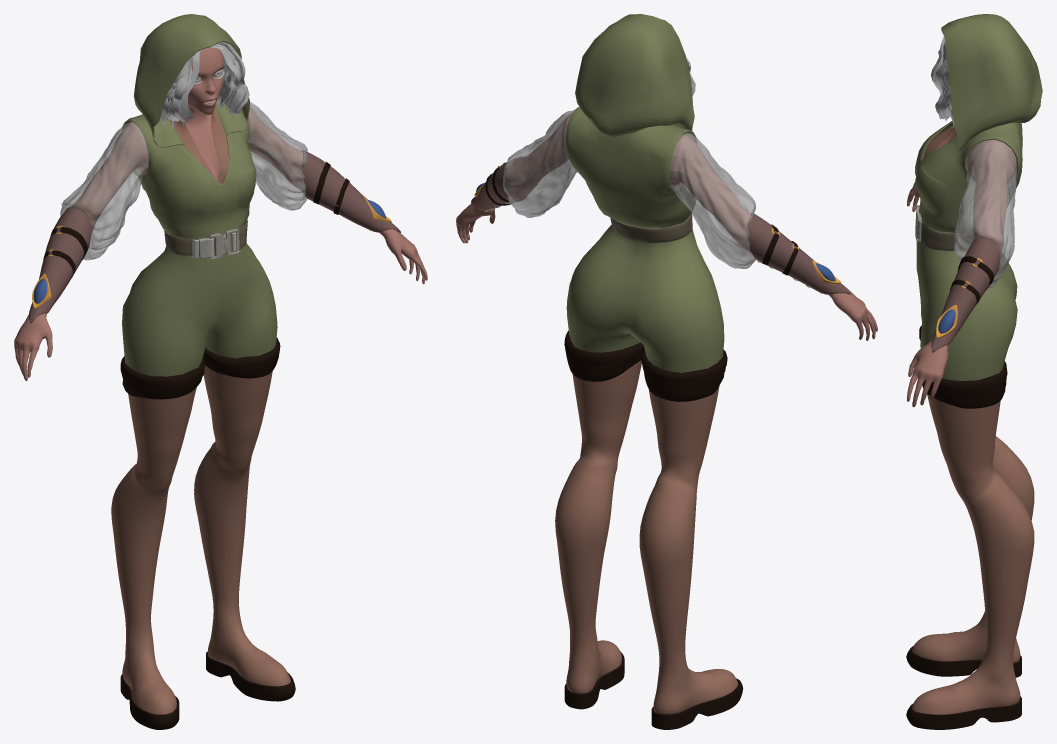
Rendered from siera_UV_05.fbx.
The picture shows the model from 3 angles, left to right: view 1: azimuth 30°, elevation 25°; view 2: azimuth 150°, elevation 25°; view 3: azimuth 270°, elevation 25°; orthographic projection. The views are drawn at different scales.
Visible parts, largest first — view 1: body_cloth_low, boots_low, sleeve_R_low, arm_R, sleeve_L_low, upper_leg_cloth_low, arm_L, face, glove_R_low, glove_L_low, sole_low, belt_low (+3 smaller); view 2: body_cloth_low, boots_low, sleeve_R_low, arm_R, sleeve_L_low, upper_leg_cloth_low, arm_L, glove_R_low, sole_low, belt_low, glove_L_low; view 3: body_cloth_low, boots_low, sleeve_L_low, arm_L, sole_low, glove_L_low, upper_leg_cloth_low, belt_low, hair_L_front, neck_part_low, gemme_L_low, arm_L_ring_top_low.
Part boxes in pixels (box(x1,y1,x2,y2)): body_cloth_low: box(122, 14, 277, 376); boots_low: box(111, 365, 290, 714); sleeve_R_low: box(60, 121, 148, 260); arm_R: box(14, 122, 148, 380); sleeve_L_low: box(247, 102, 308, 210); upper_leg_cloth_low: box(120, 337, 280, 399); arm_L: box(247, 107, 427, 284); face: box(184, 47, 224, 179); glove_R_low: box(29, 206, 92, 323); glove_L_low: box(301, 150, 400, 232); sole_low: box(120, 651, 295, 729); belt_low: box(164, 220, 247, 259); body_cloth_low: box(565, 14, 724, 372); boots_low: box(555, 360, 738, 714); sleeve_R_low: box(669, 133, 756, 268); arm_R: box(669, 134, 877, 340); sleeve_L_low: box(503, 109, 577, 217); upper_leg_cloth_low: box(564, 331, 727, 401); arm_L: box(456, 113, 571, 243); glove_R_low: box(746, 212, 850, 294); sole_low: box(564, 651, 743, 729); belt_low: box(610, 213, 692, 242); glove_L_low: box(471, 156, 531, 210); body_cloth_low: box(915, 14, 1042, 380); boots_low: box(912, 394, 1034, 714); sleeve_L_low: box(954, 139, 1016, 288); arm_L: box(907, 139, 1016, 407); sole_low: box(906, 646, 1021, 729); glove_L_low: box(931, 236, 1001, 352); upper_leg_cloth_low: box(919, 325, 1007, 408); belt_low: box(915, 205, 973, 250); hair_L_front: box(931, 36, 971, 128); neck_part_low: box(923, 125, 957, 157); gemme_L_low: box(938, 309, 955, 333); arm_L_ring_top_low: box(957, 256, 993, 288).
Bounding box in the file's own units: 108 × 172 × 31.53.
